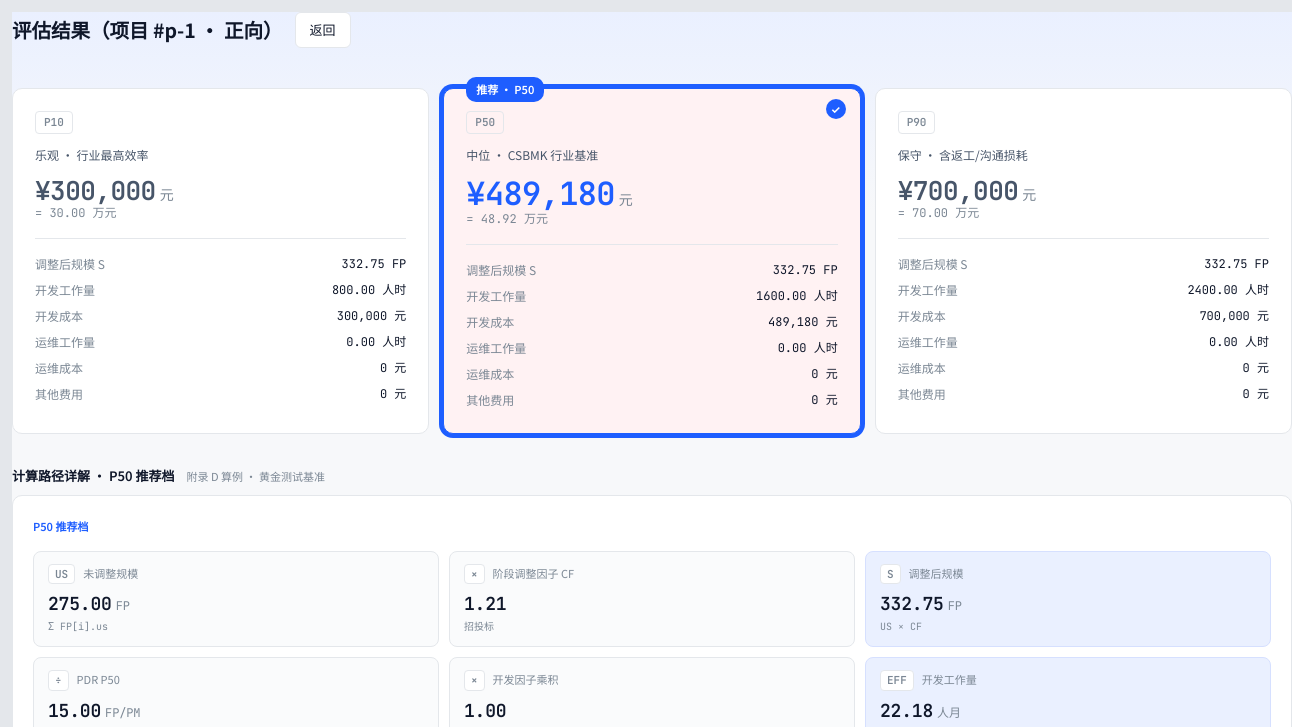
Scenario: ResultView — 三档卡片选择 › 选择 P90 后「计算路径详解」标题更新为 P90 保守档
Step 1. Click the button with test id "tier-card-P90" → (1083, 261), box [875, 88, 1291, 434]
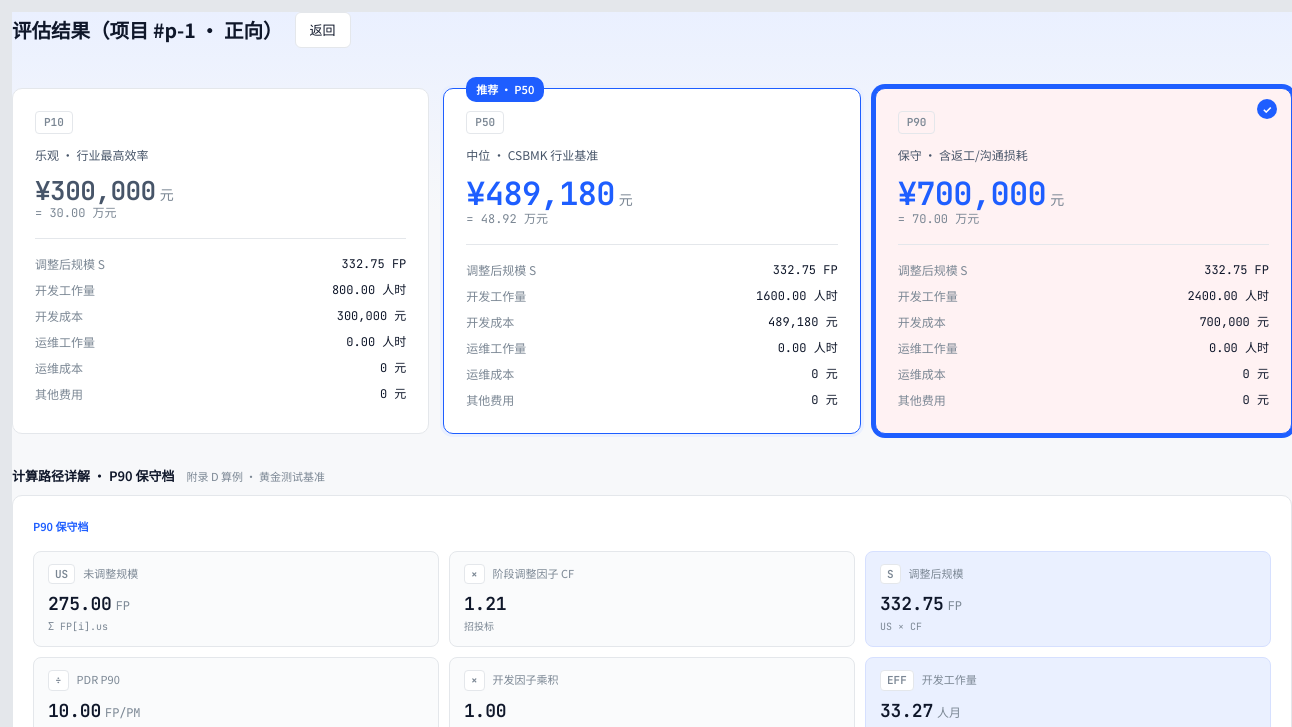
Result: the text "P90 保守档" is shown at [12, 466, 174, 484]
Result: the text "P50 推荐档" is gone
